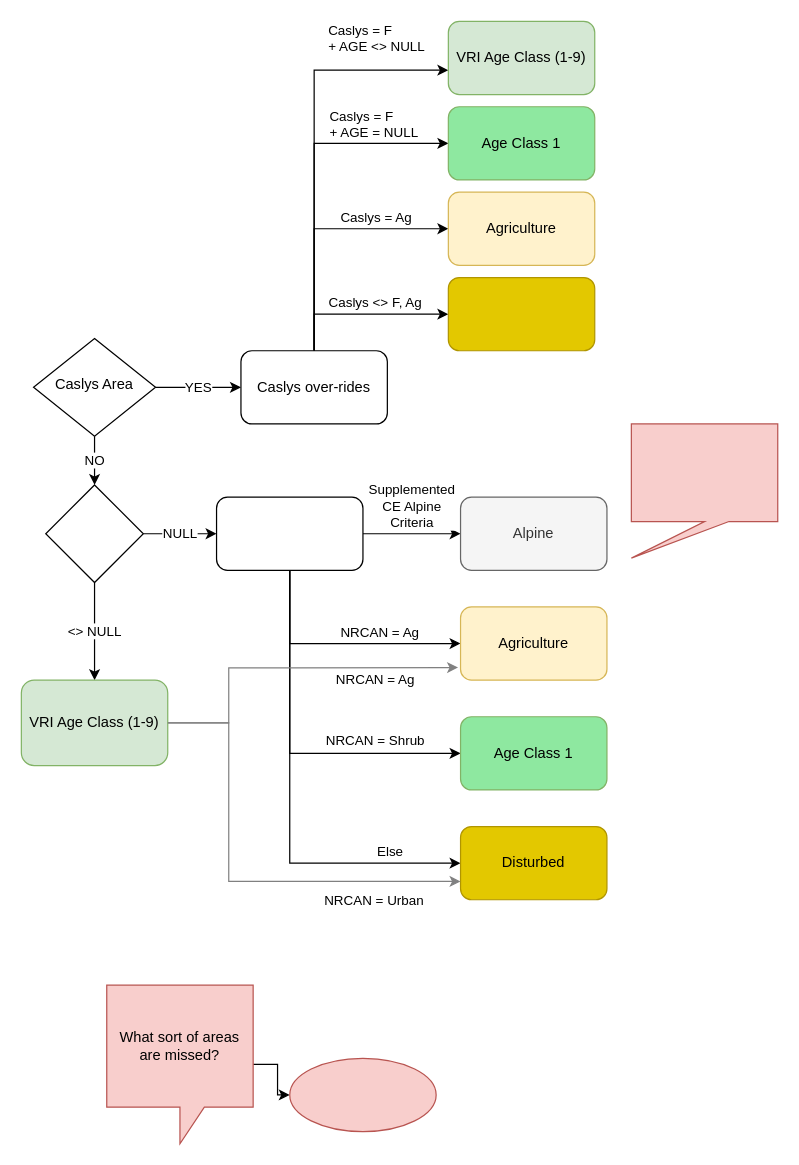
This 799x1165 diagram has some shape labels left out. Here are the shapes that lost their labels. From the top down, the centre of each, then its label:
At [521,313]: "Distrubed".
At [704,490]: "Classification as alpine is done last (overwriting any NRCAN-derived values)".
At [94,533]: "AGE_CLASS".
At [289,533]: "Reclass".
At [362,1094]: "Some natural disturbance areas in the alpine".
